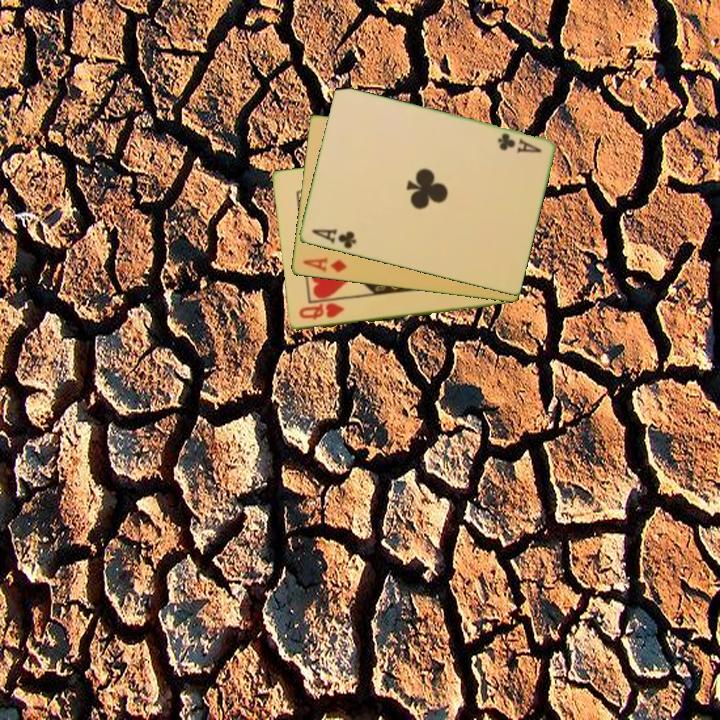Ac: (308, 225, 359, 252), (493, 130, 544, 156)
Ad: (299, 254, 349, 276)
Qh: (295, 300, 347, 323)
